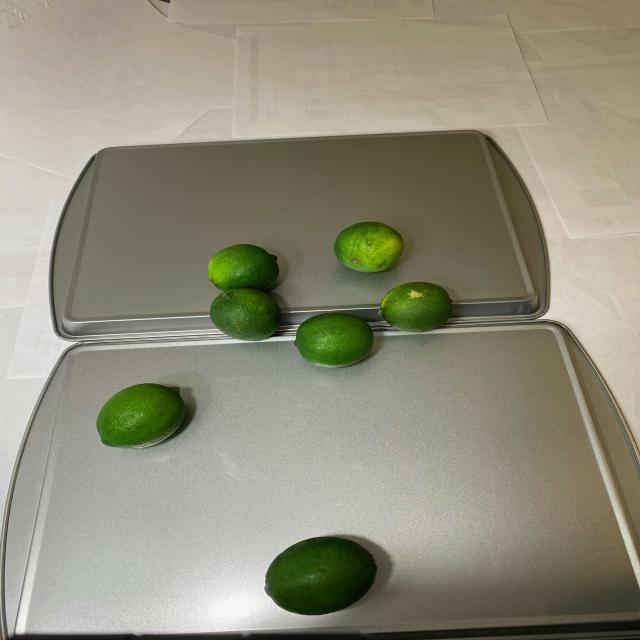lemon: (204, 222, 458, 367), (260, 537, 376, 617), (94, 380, 190, 450)
